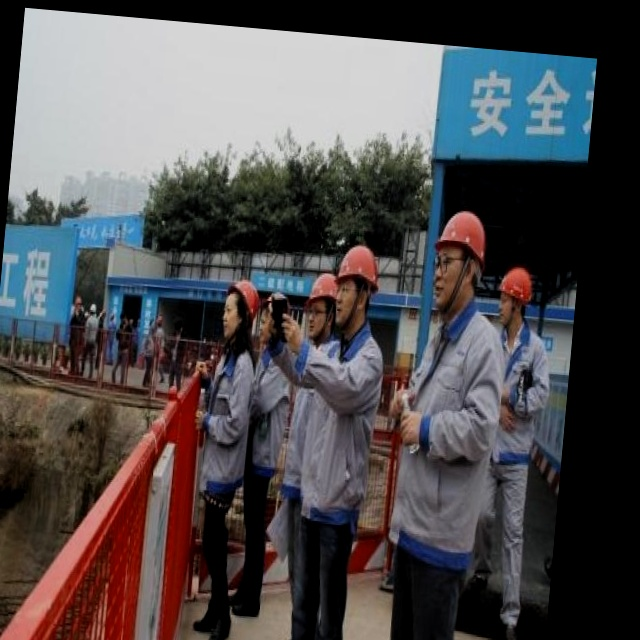Con_Casco: (428, 207, 490, 324), (330, 242, 381, 333)
